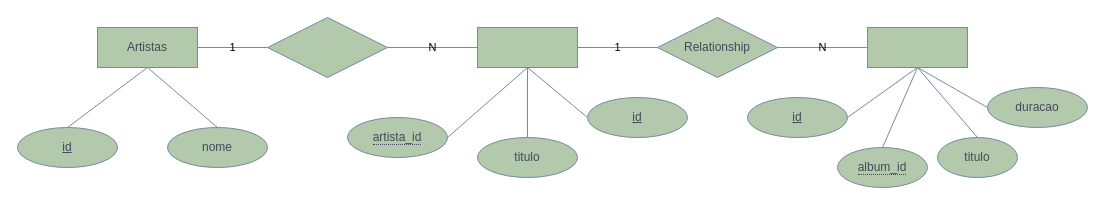
The diagram is 1105 pixels wide and 205 high, and some of its shapes have lost their labels. The centre of each missing label's shape, as x and y in pixels:
"Albuns" belongs at pixel 527 47.
"faixas" belongs at pixel 917 47.
"tem" belongs at pixel 327 47.
